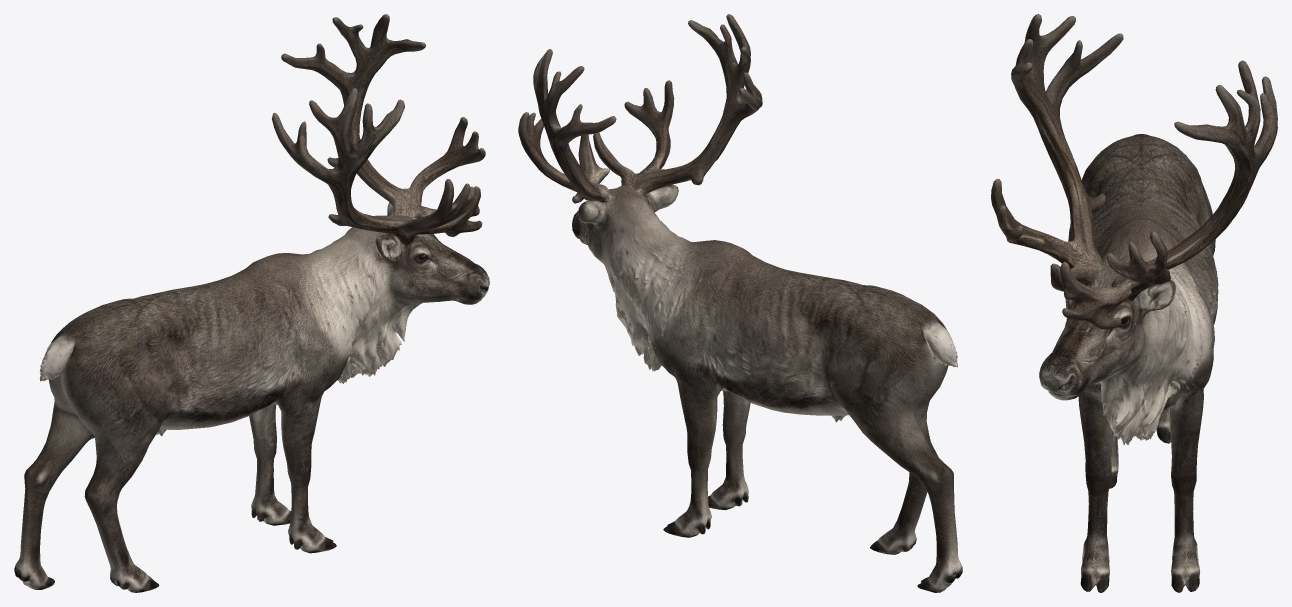
Rendered from reindeer.glb.
The picture shows the model from 3 angles, left to right: view 1: azimuth 30°, elevation 25°; view 2: azimuth 150°, elevation 25°; view 3: azimuth 270°, elevation 25°; orthographic projection. The views are drawn at different scales.
Visible parts, largest first — view 1: Mesh_0; view 2: Mesh_0; view 3: Mesh_0.
Boxes of the visible parts, x1,y1,x2,y2 form: Mesh_0: (14, 14, 489, 592); Mesh_0: (518, 14, 962, 592); Mesh_0: (991, 14, 1277, 592).
Size of the model in its own units: 1.8 by 1.81 by 0.8162.
1 material, 1 textured.
